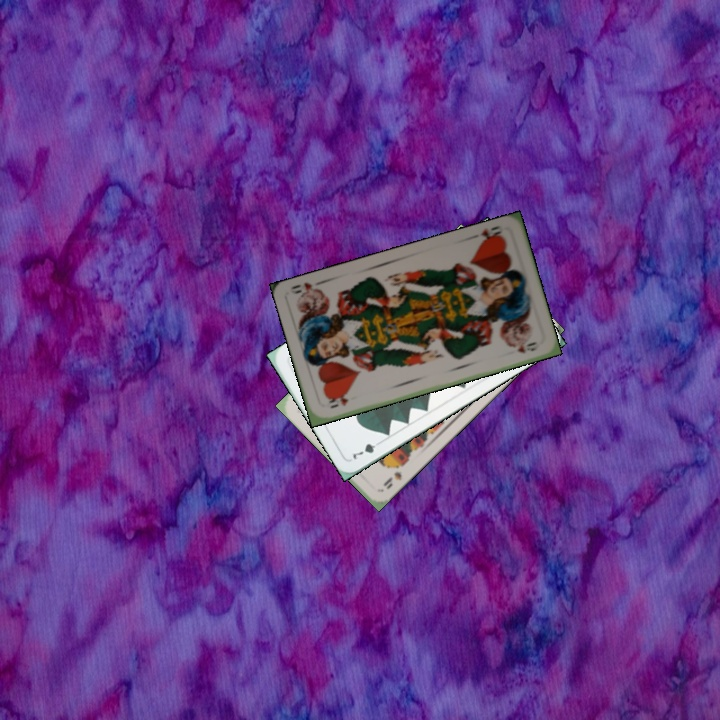G7: (348, 436, 385, 462)
HO: (468, 221, 507, 246), (325, 392, 350, 411)
S9: (379, 459, 408, 492)
